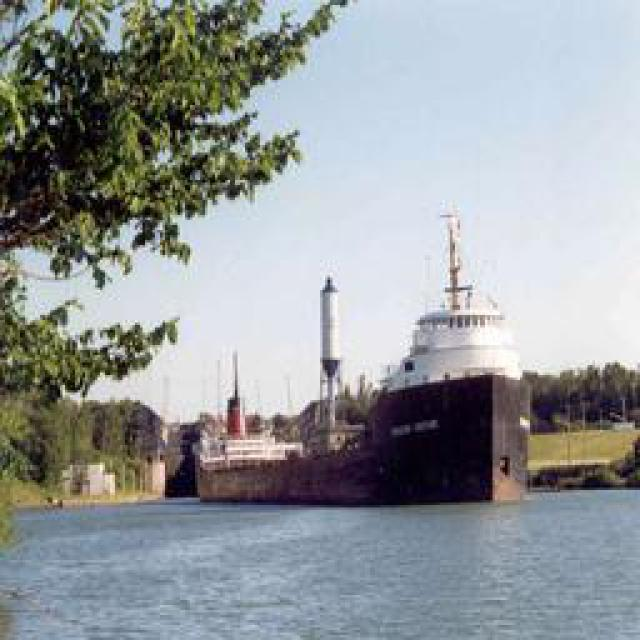Ship: (193, 191, 531, 514)
